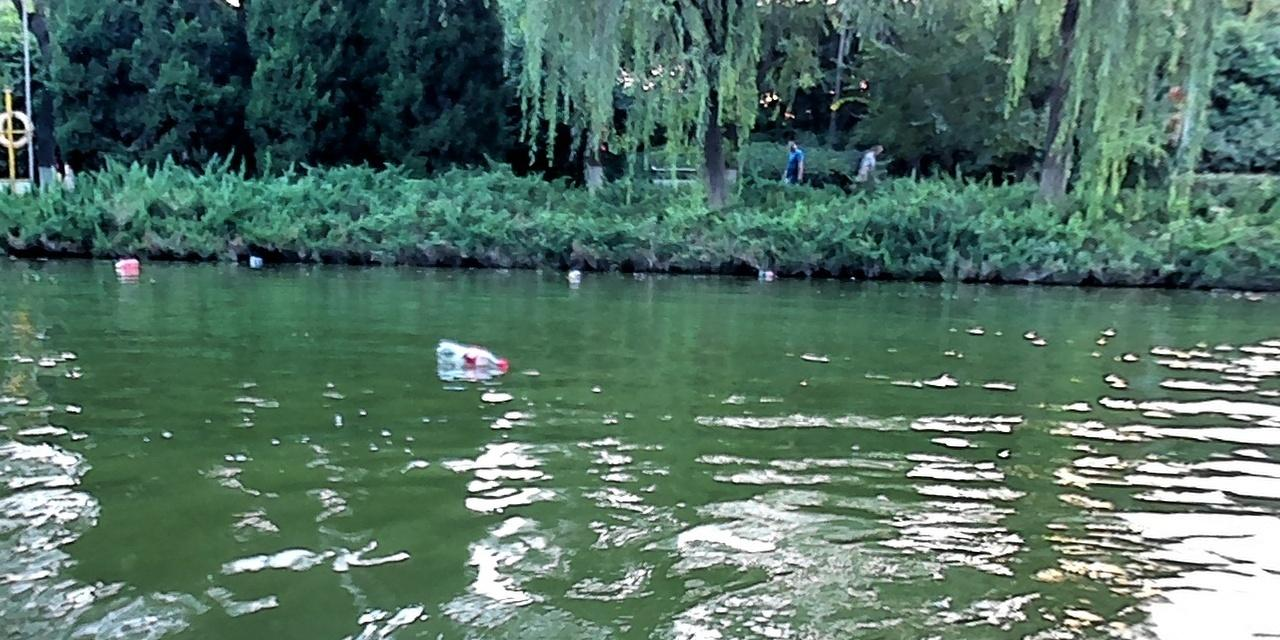bottle: (435, 339, 505, 369), (114, 256, 139, 271), (755, 269, 774, 281), (565, 268, 580, 279), (248, 255, 262, 265)
